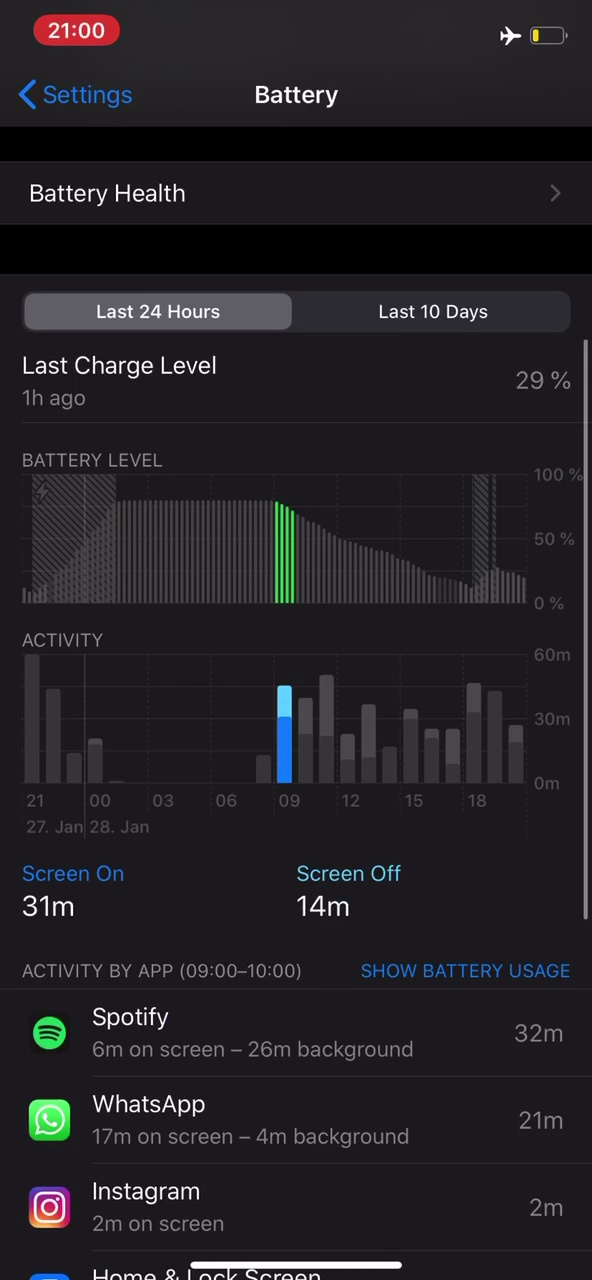activity: (11, 956, 313, 985)
app: (19, 1003, 578, 1073), (21, 1081, 580, 1151), (17, 1175, 576, 1245)
